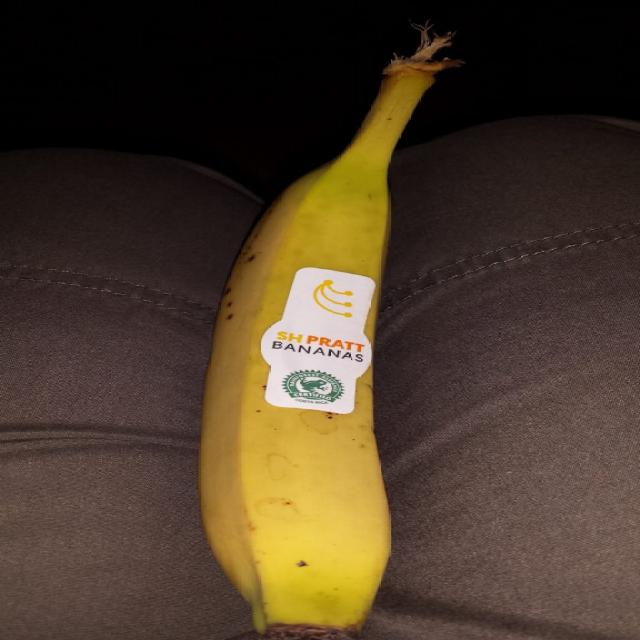Banana: (190, 25, 456, 637)
